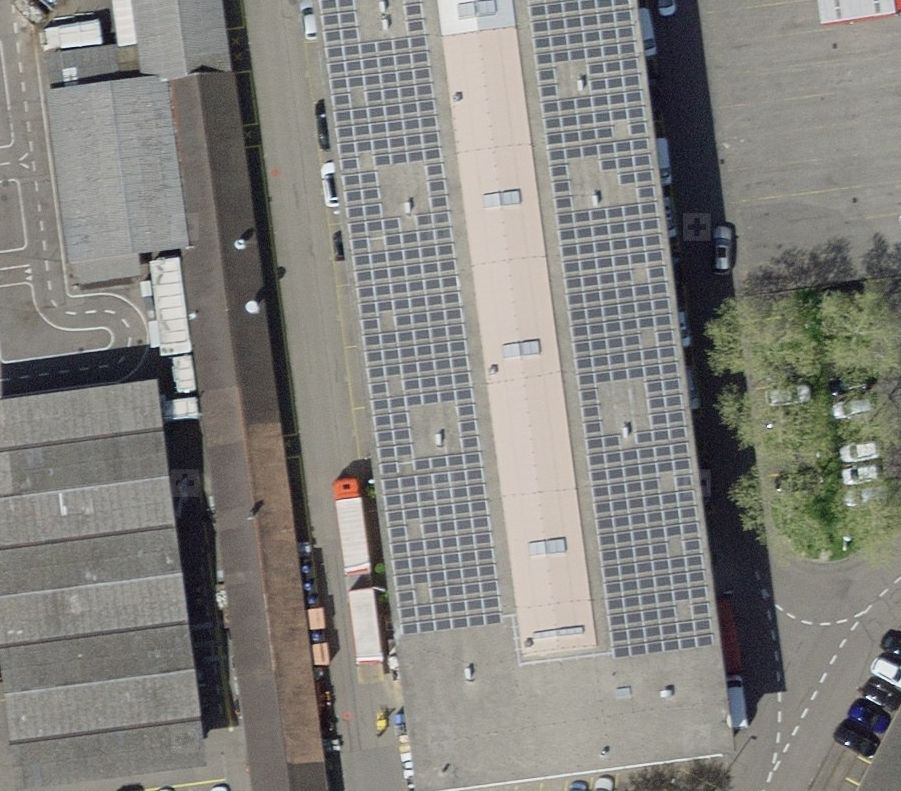solar: (527, 1, 716, 662), (317, 1, 503, 635)
